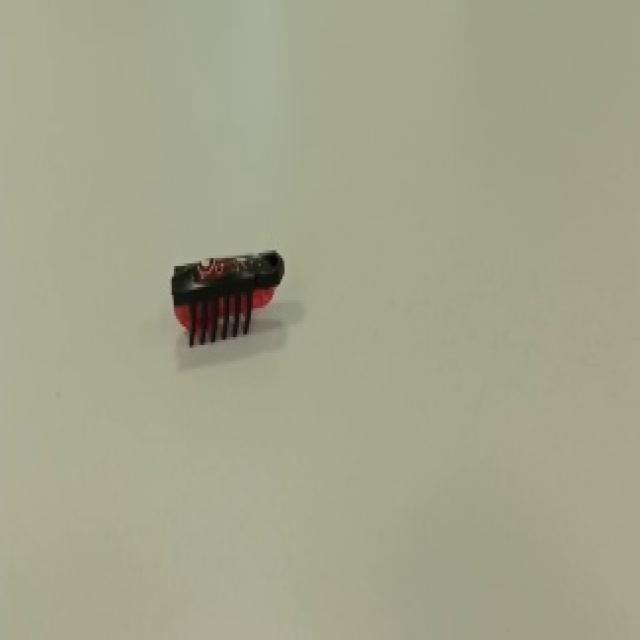2_NanoBug_Negro: (132, 221, 311, 376)
